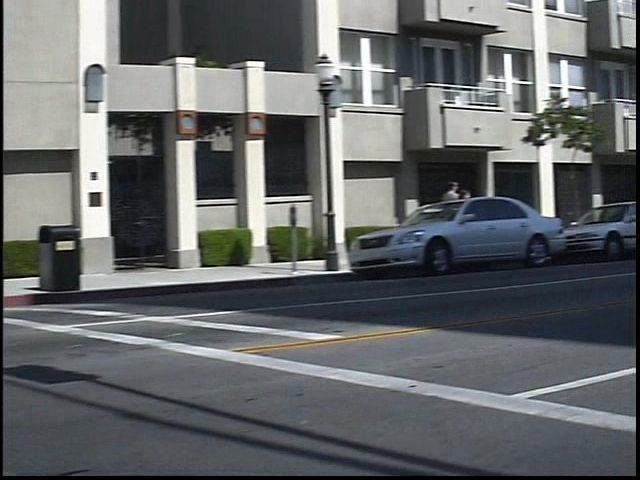person: (452, 176, 476, 251), (471, 185, 490, 246)
